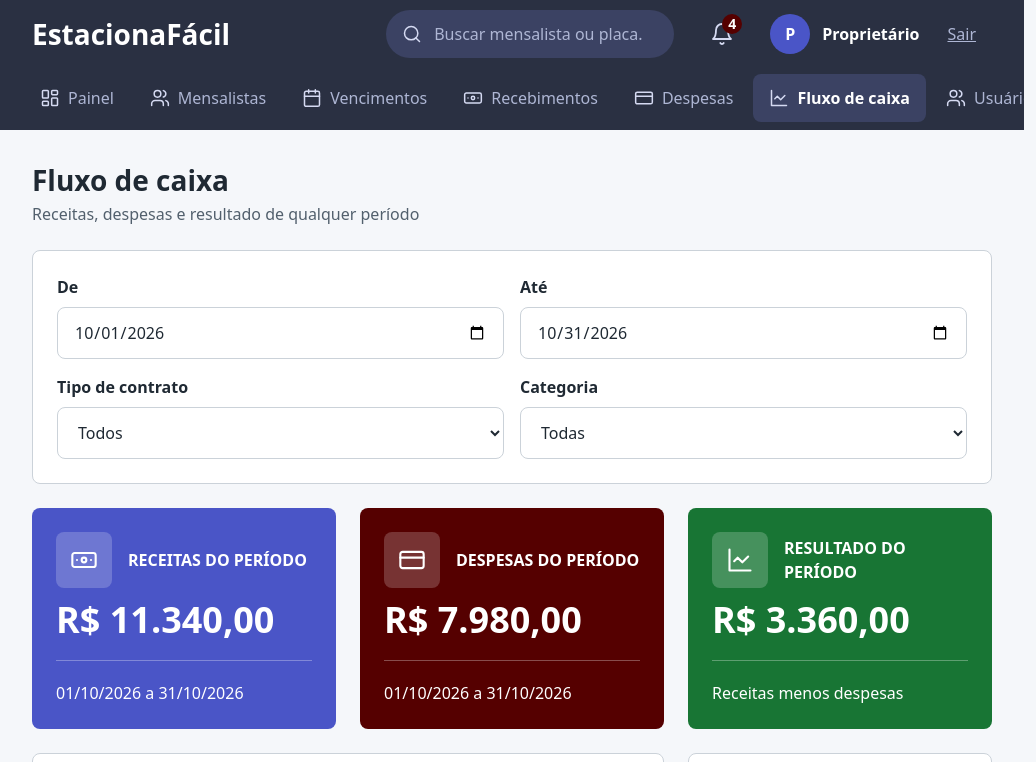
Test: aba Fluxo de caixa › o filtro de tipo de contrato também oculta o resultado
Expected: the text "Receitas do período" is shown, [128,548,307,572]
Select "Semanal" in the dropdown labelled "Tipo de contrato": [280, 433] box [57,407,504,459]
(page scrolled)
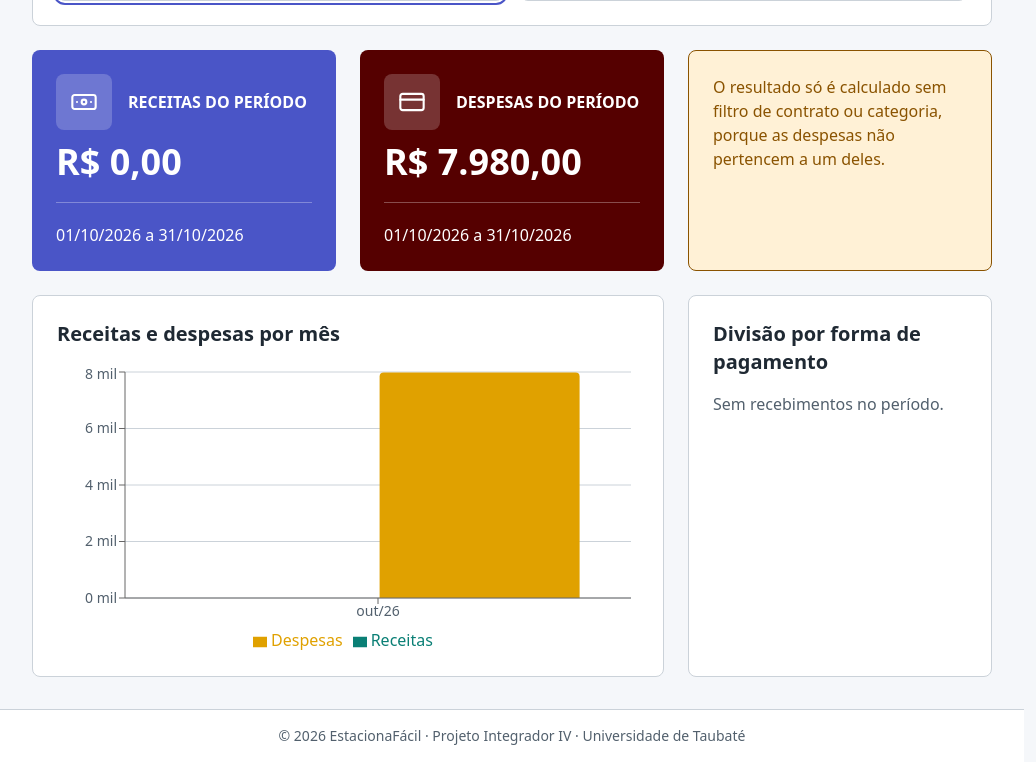
Now the text "O resultado só é calculado sem filtro de contrato ou categoria, porque as despesas não pertencem a um deles." is shown, box [713,76,947,170]
Now the text "Resultado do período" is gone
Now the text "Sem recebimentos no período." is shown, box [713,392,967,416]
